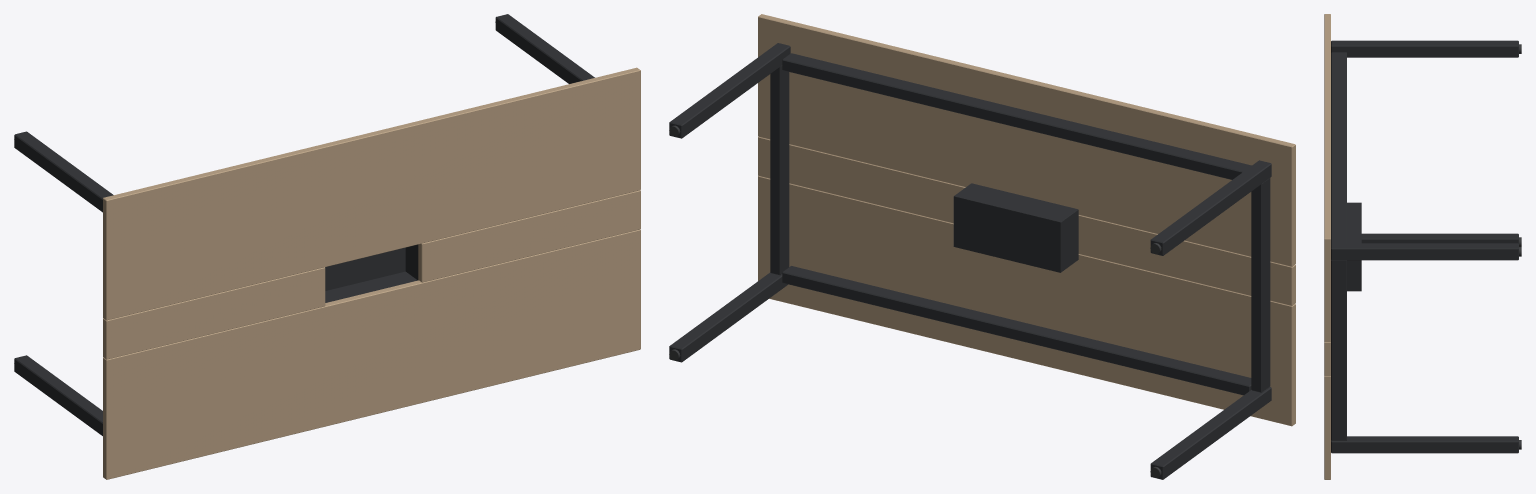
Rendered from conference_table_body.glb.
The picture shows the model from 3 angles, left to right: view 1: azimuth 30°, elevation 25°; view 2: azimuth 150°, elevation 25°; view 3: azimuth 270°, elevation 25°; orthographic projection. The views are drawn at different scales.
Parts seen in each view (by area): view 1: export_tmp; view 2: export_tmp; view 3: export_tmp.
Boxes of the visible parts, bbox=[...] form: export_tmp: bbox=[14, 14, 640, 479]; export_tmp: bbox=[669, 14, 1295, 479]; export_tmp: bbox=[1324, 14, 1521, 479].
Size of the model in its own units: 2 by 1 by 0.74.
